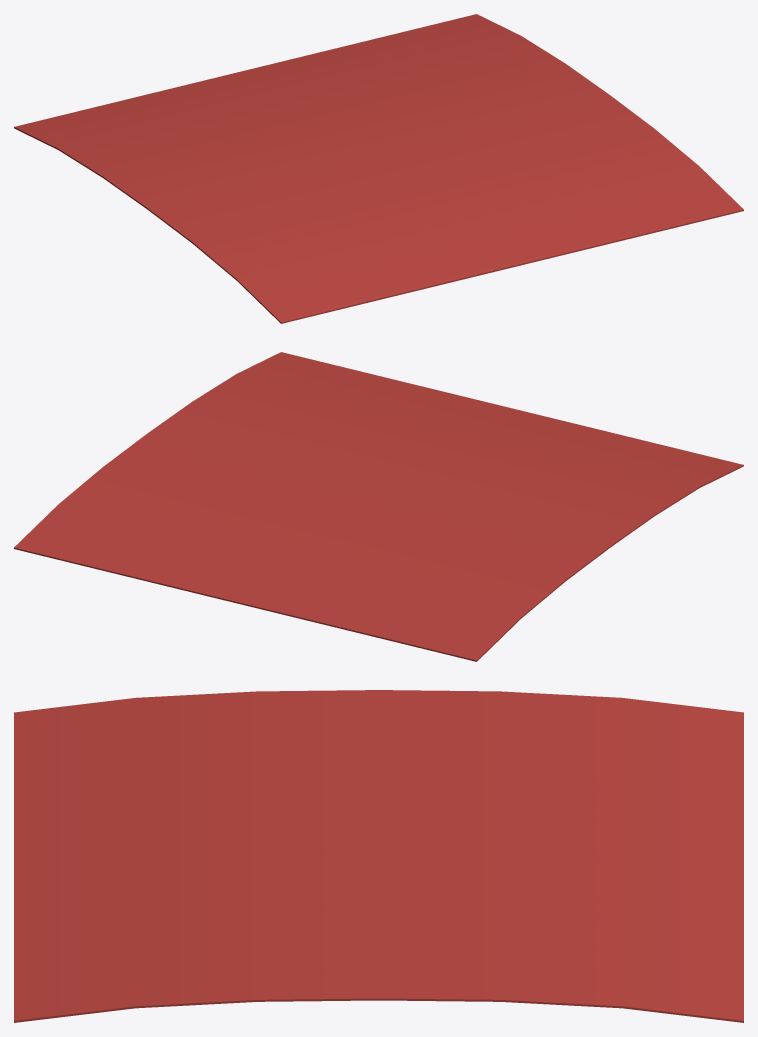
The model's file is steel_tip_lod1.glb.
The picture shows the model from 3 angles, top to bottom: view 1: azimuth 30°, elevation 25°; view 2: azimuth 150°, elevation 25°; view 3: azimuth 270°, elevation 25°; orthographic projection. The views are drawn at different scales.
Parts seen in each view (by area): view 1: steel_tip_lod1; view 2: steel_tip_lod1; view 3: steel_tip_lod1.
Boxes of the visible parts, box(x1,y1,x2,y2) form: steel_tip_lod1: box(14, 14, 743, 323); steel_tip_lod1: box(14, 352, 743, 661); steel_tip_lod1: box(14, 690, 743, 1022).
Bounding box in the file's own units: 1 × 0.037 × 1.
